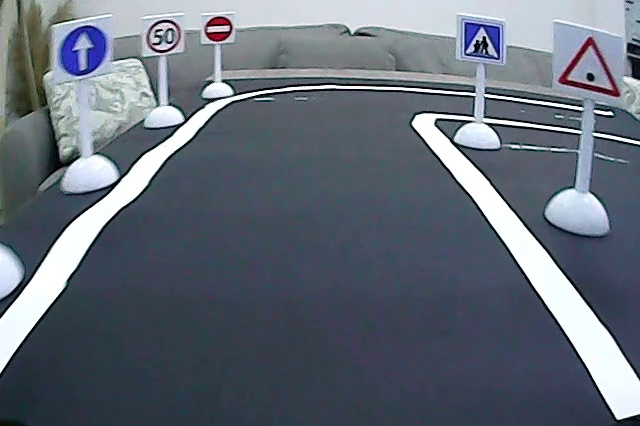do not enter: (203, 14, 235, 43)
green light: (555, 33, 623, 101)
school crossing: (459, 17, 505, 62)
speed limit 50: (144, 16, 183, 54)
